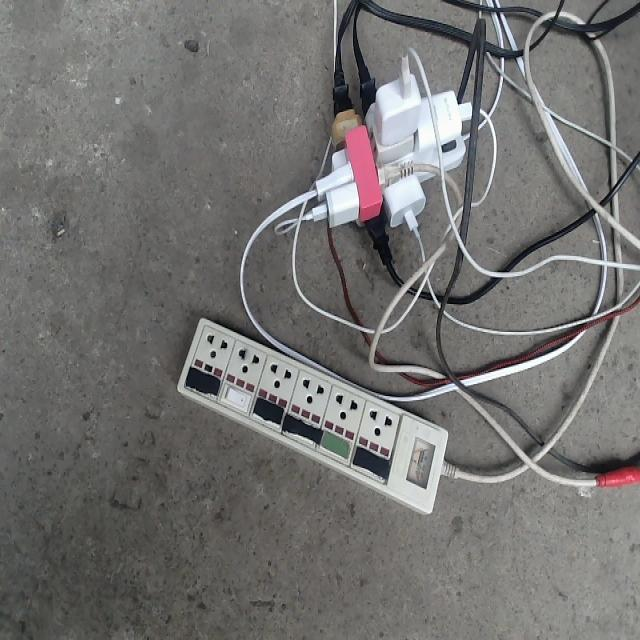-: (316, 57, 473, 227)
